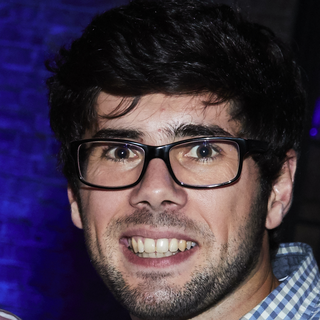eye: (182, 140, 225, 163), (100, 140, 141, 164)
